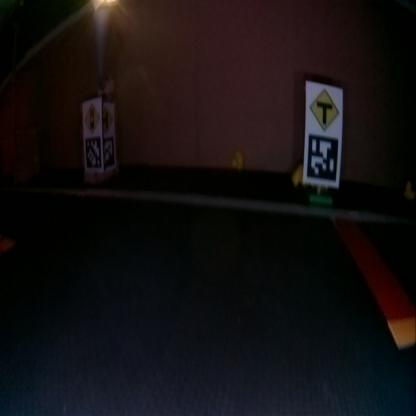Duckie: (291, 164, 304, 187), (232, 151, 244, 170), (404, 180, 414, 198)
Intersection sign: (308, 85, 341, 131), (102, 106, 112, 132)
QR code: (306, 134, 338, 182), (84, 139, 98, 166), (103, 136, 115, 166)
Signal sign: (83, 104, 100, 133)
